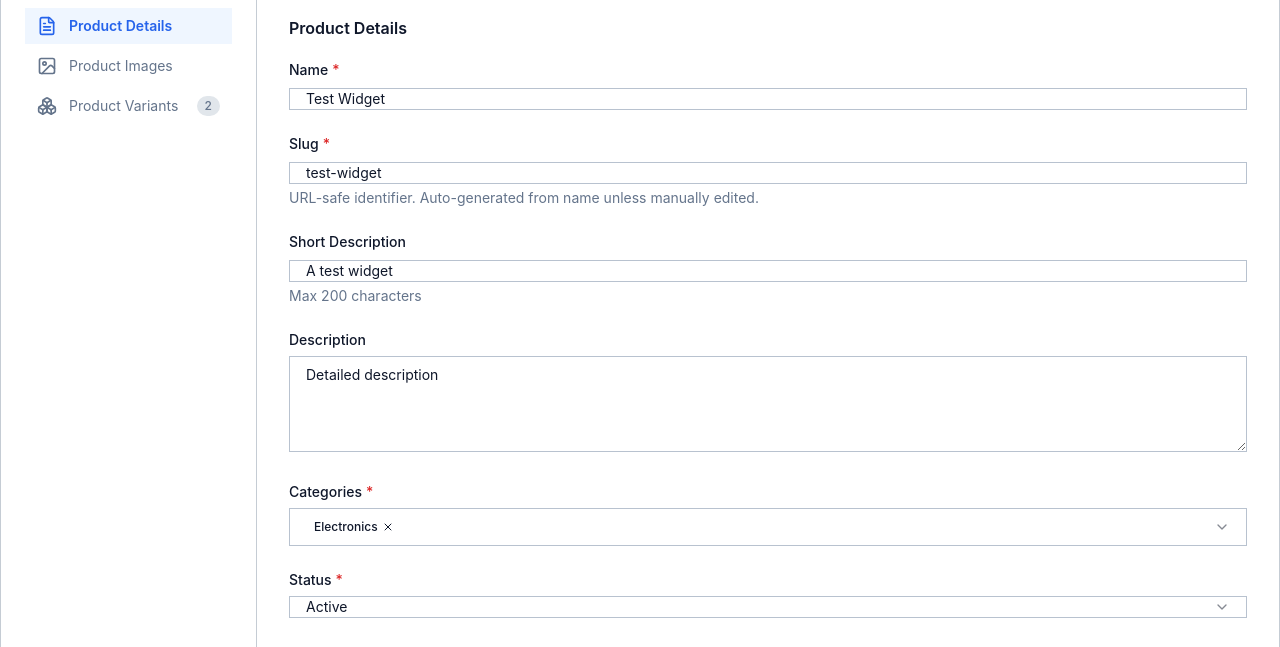
it: ProductEditPage › Validation blocks submission (Req 2.5) › blocks submission with duplicate SKUs across variants
# Change second variant SKU to match first (open its row for editing first)
Click the tab "Product Variants 2" at (128, 106), box [25,88,232,124]
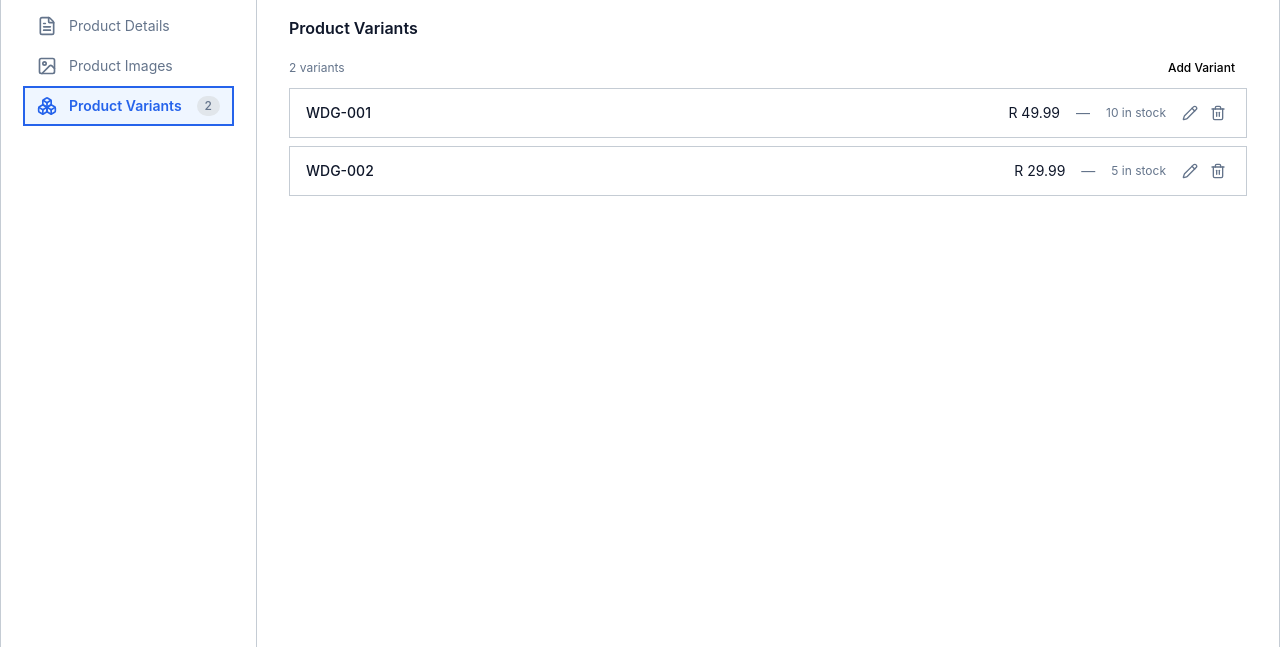
Click the button with test id "edit-variant-1" at (1190, 171), box [1178,159,1202,183]
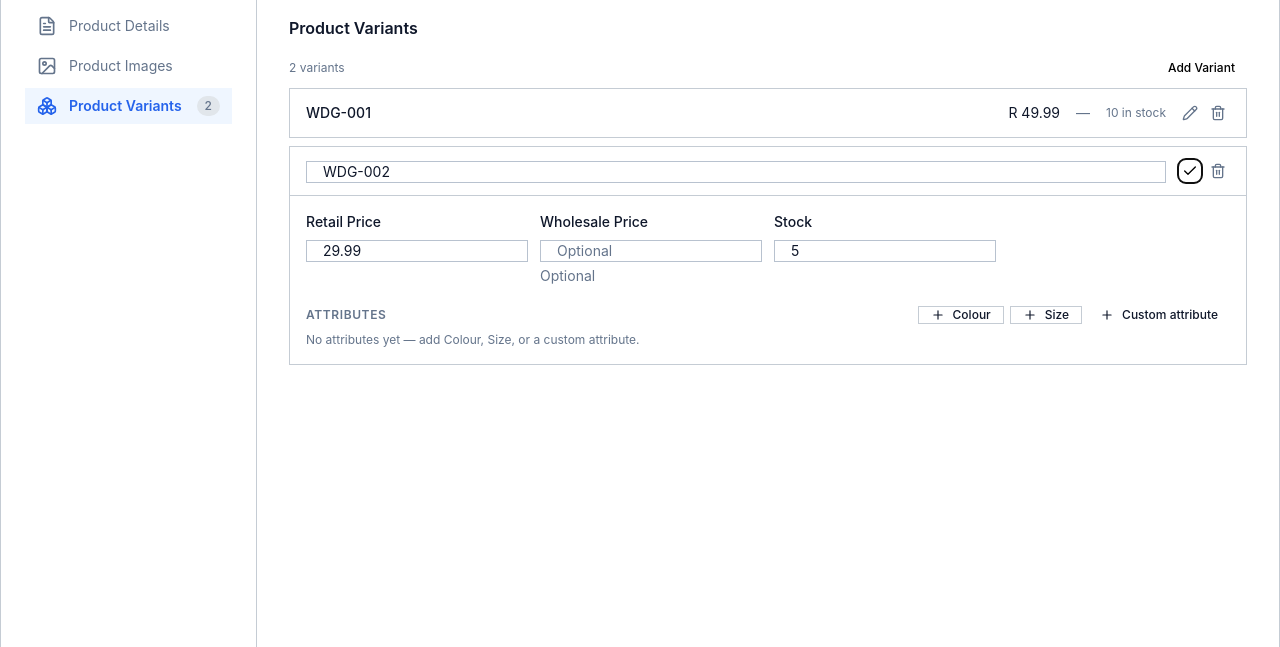
Replace the text in the field showing "WDG-002" with "WDG-001" at (736, 172), box [306,161,1166,183]
(page scrolled)
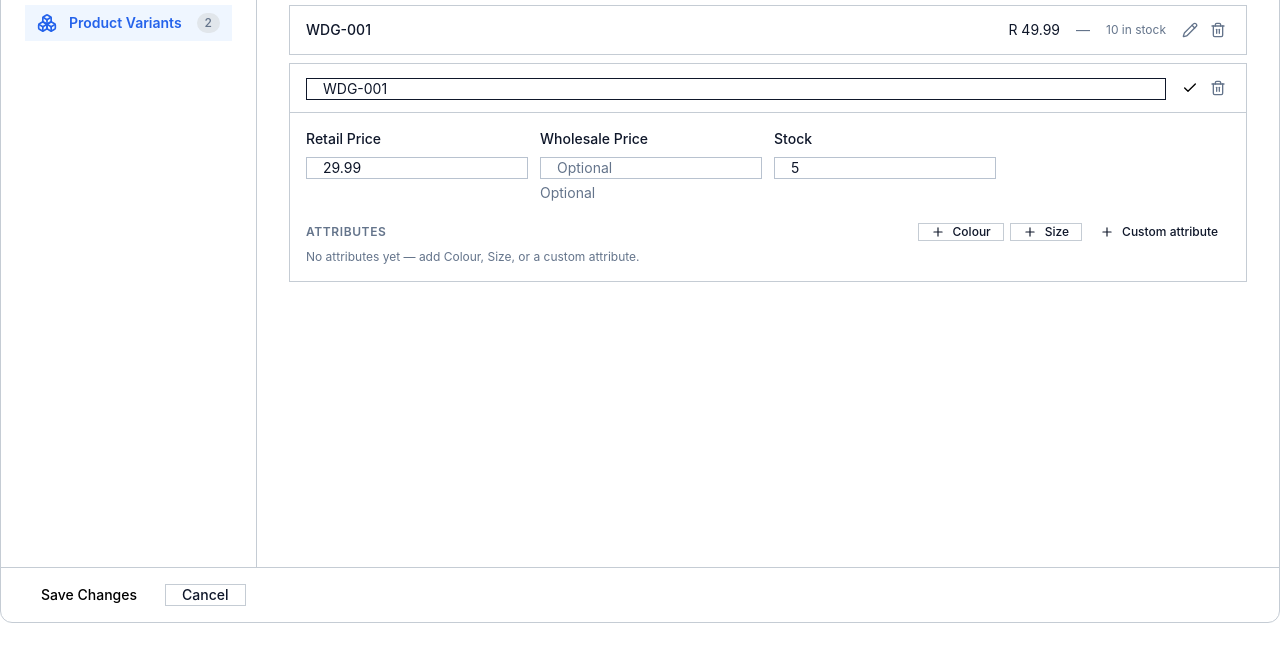
Click the button "Save Changes" at (89, 595), box [25,585,153,605]
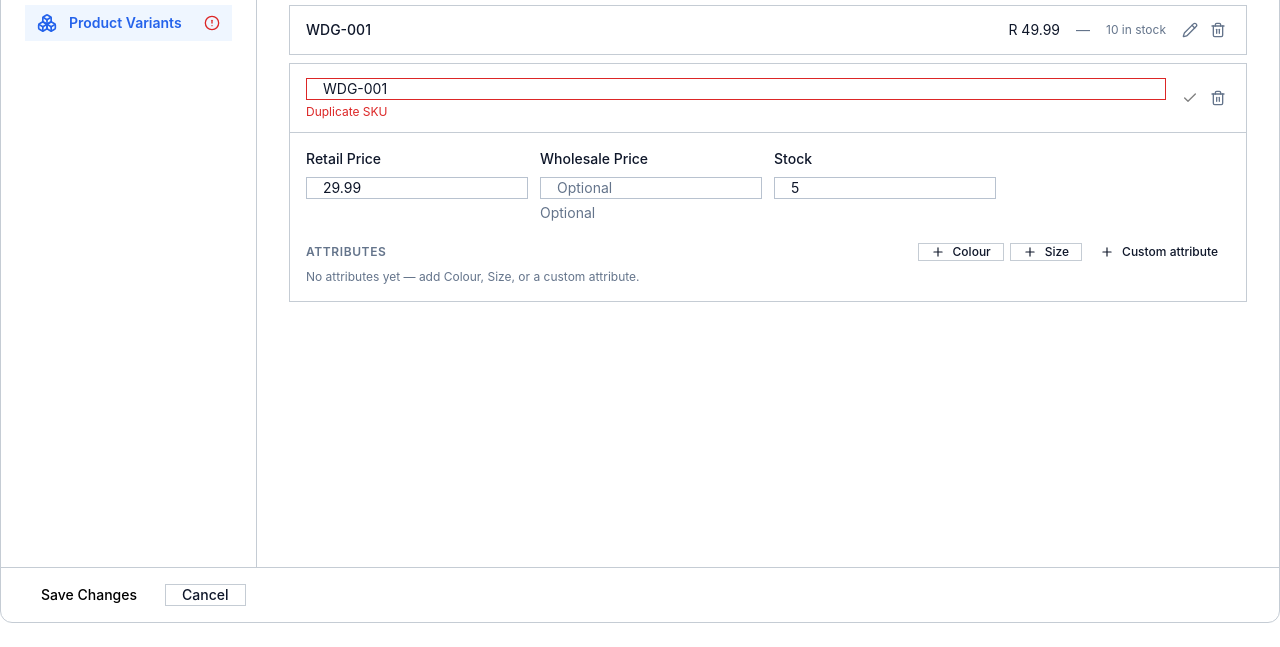
Result: the text "Duplicate SKU" is shown at [306,104,388,119]
